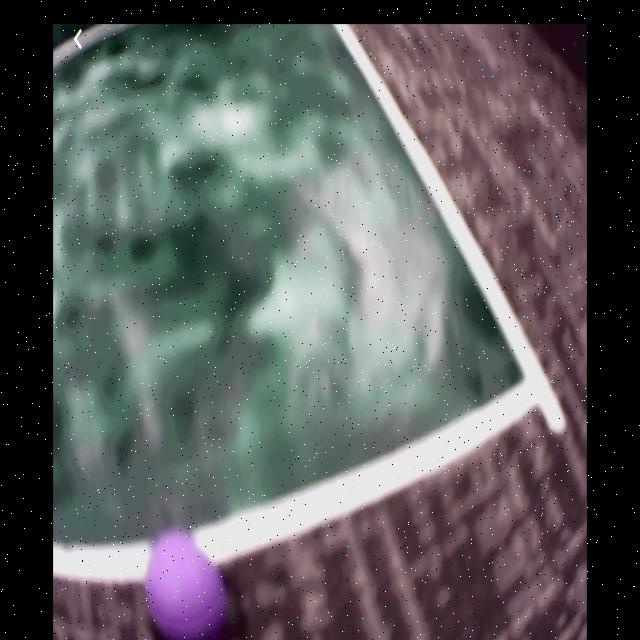ball: (147, 540, 225, 637)
